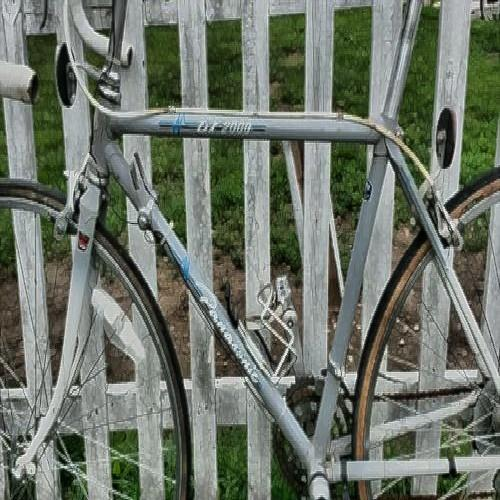bicycle: (38, 39, 475, 480)
